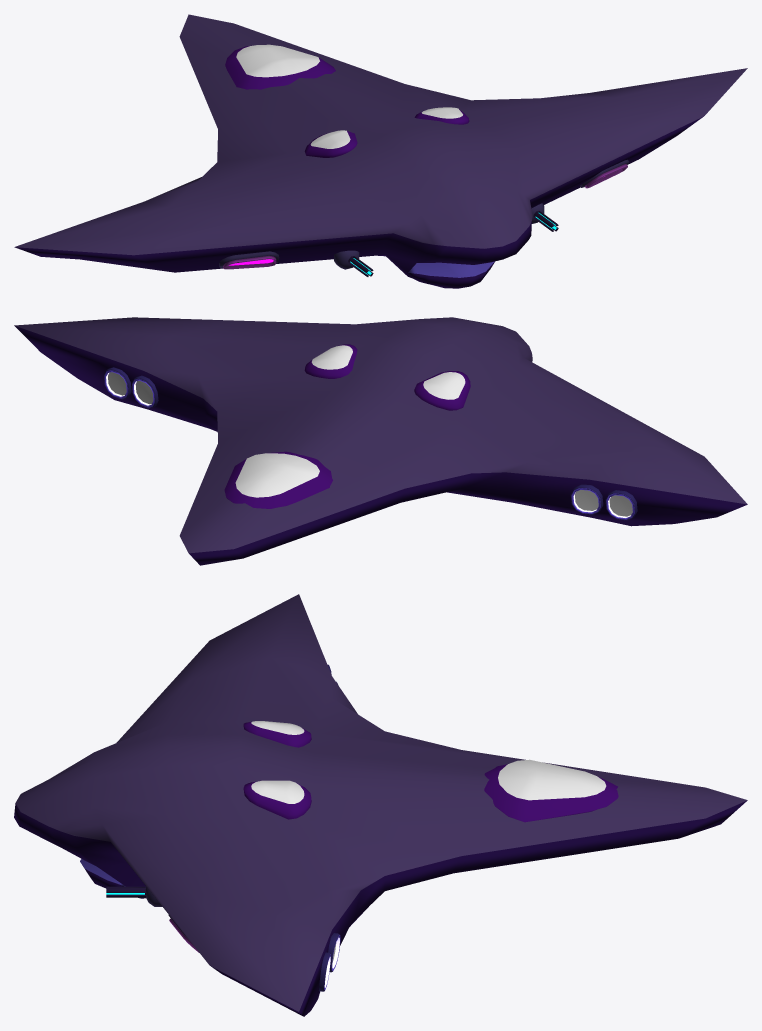
File: Enemy_Fighter.fbx
3 views of the same model, one above another, from view 1: azimuth 30°, elevation 25°; view 2: azimuth 150°, elevation 25°; view 3: azimuth 270°, elevation 25° (orthographic). The views are drawn at different scales.
Parts seen in each view (by area): view 1: Enemy_Fighter; view 2: Enemy_Fighter; view 3: Enemy_Fighter.
Boxes of the visible parts, <box> form: Enemy_Fighter: <box>14,14,747,288</box>; Enemy_Fighter: <box>14,317,747,565</box>; Enemy_Fighter: <box>14,594,747,1016</box>.
Bounding box in the file's own units: 4491 × 716 × 3333.
